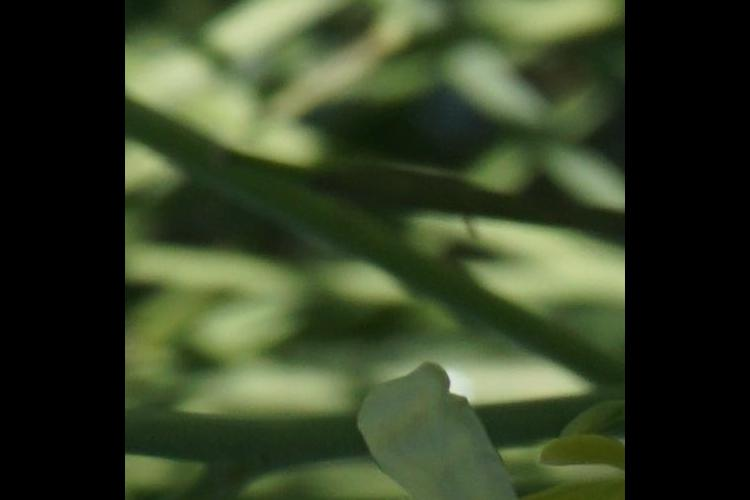white: (379, 364, 579, 500)
